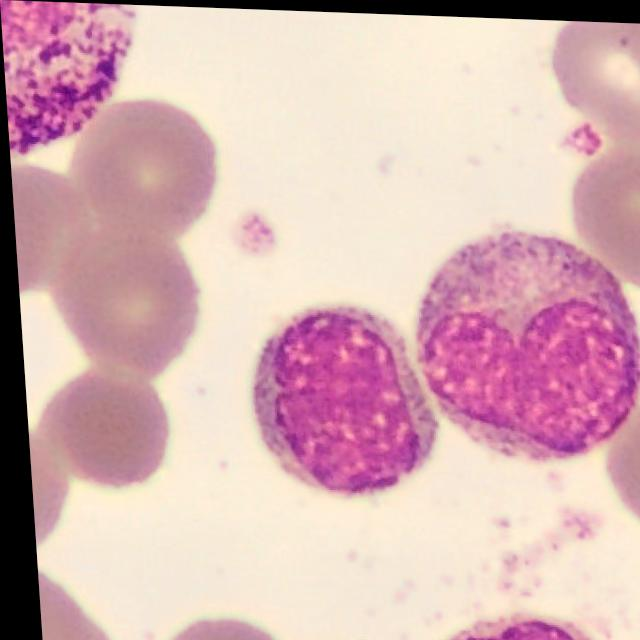Metamielocito: (414, 223, 640, 457)
Mielocito: (245, 303, 432, 495)
